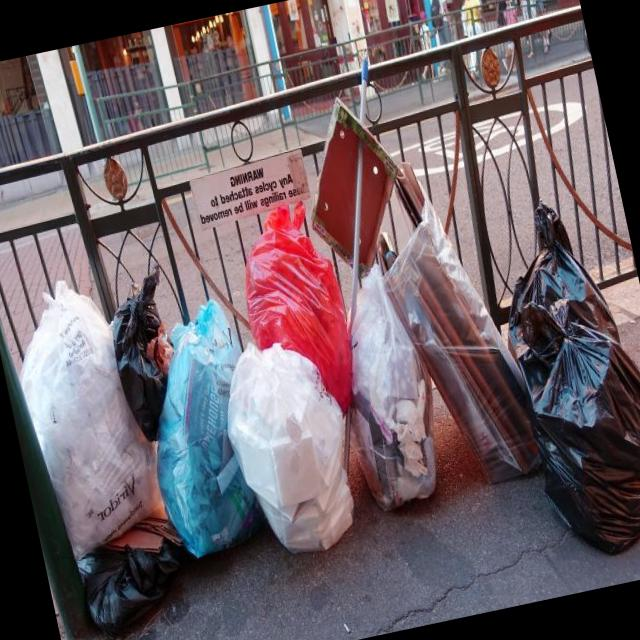high trash: (21, 102, 640, 632)
